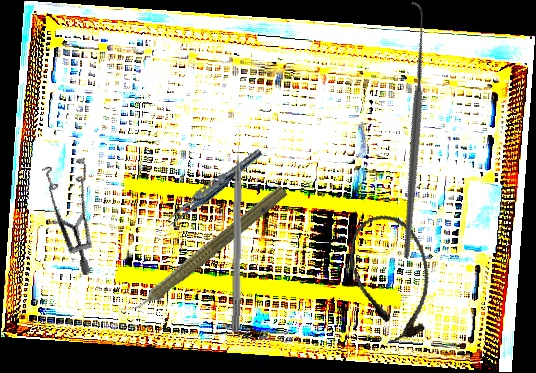Cannula: (340, 206, 444, 349)
Handpiece: (117, 178, 290, 326)
Hook Surgical: (291, 0, 529, 260)
Pusher: (231, 128, 246, 333)
Speculum: (12, 144, 128, 277)
Tissue Forceps: (162, 144, 265, 232)
